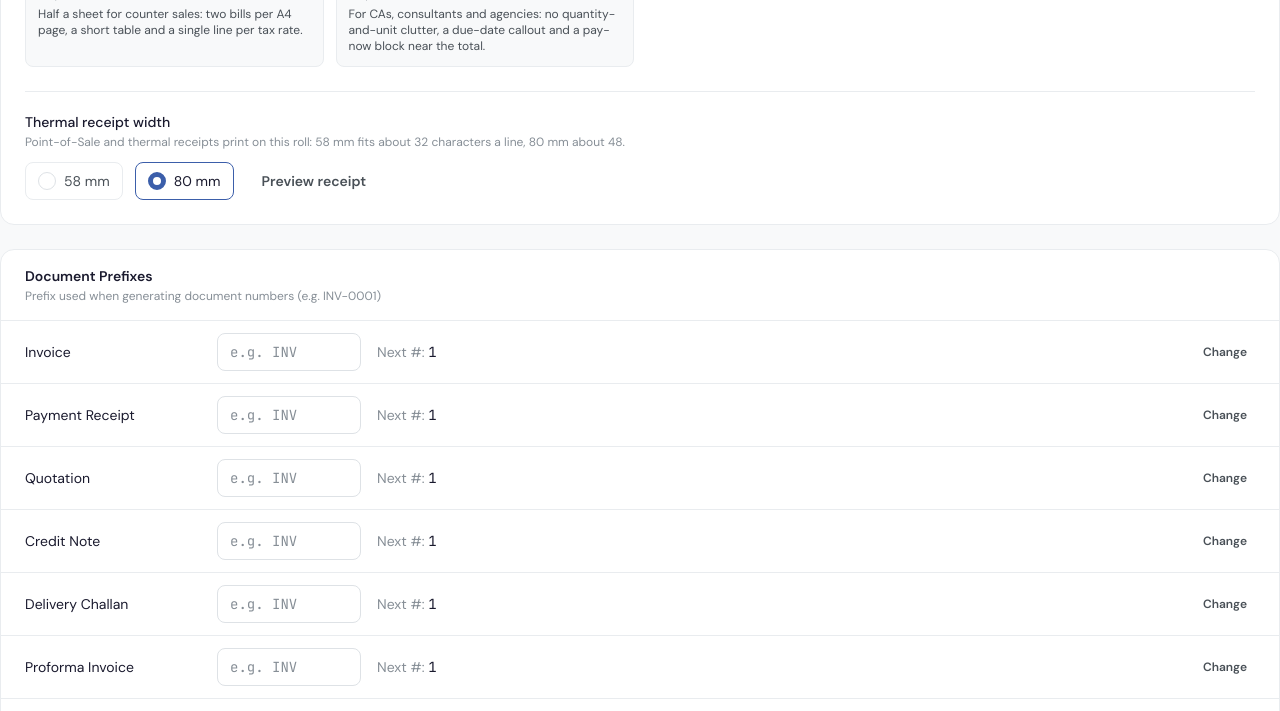
Test case: DocumentsTab — Document Prefixes card › typing into an invoice prefix input reveals the prefixes Save button
(page scrolled)
// First input is Invoice row
Type "INV" into the 1st field with placeholder "e.g. INV".
click(289, 352); type("INV")  # box [217, 332, 361, 370]
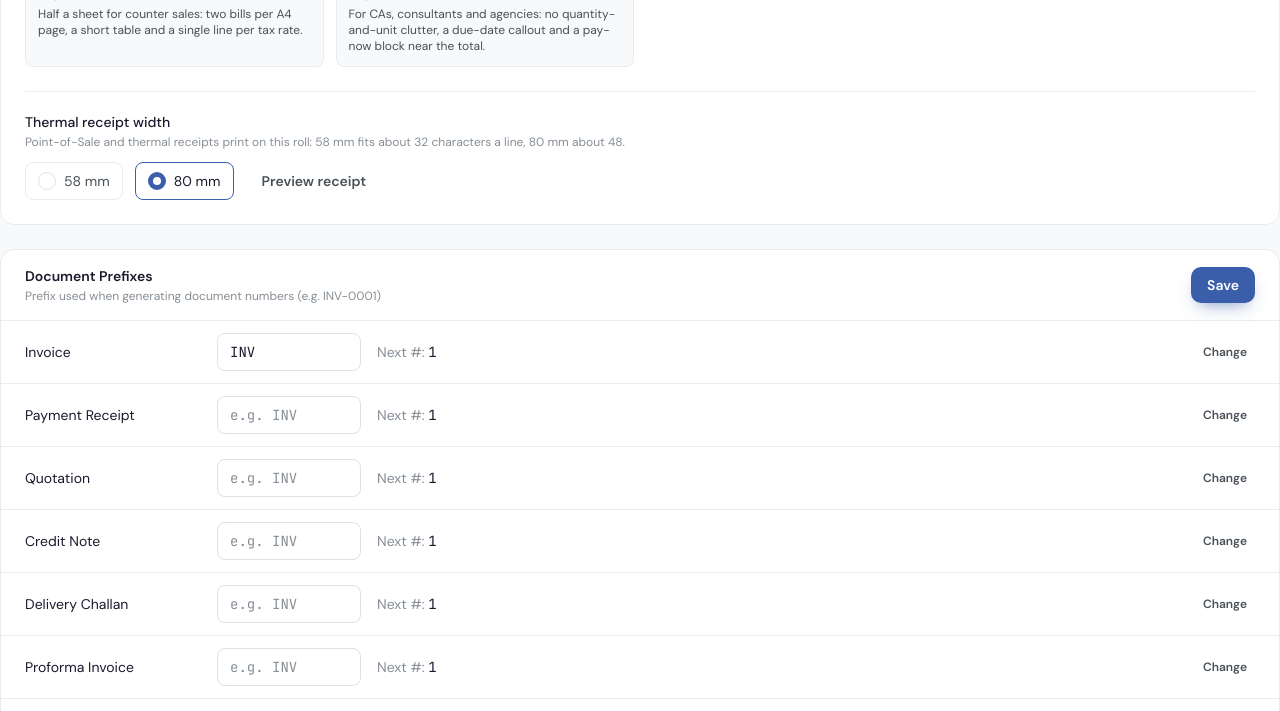
Check: the button "Save" is shown, box [1191, 266, 1255, 302]
